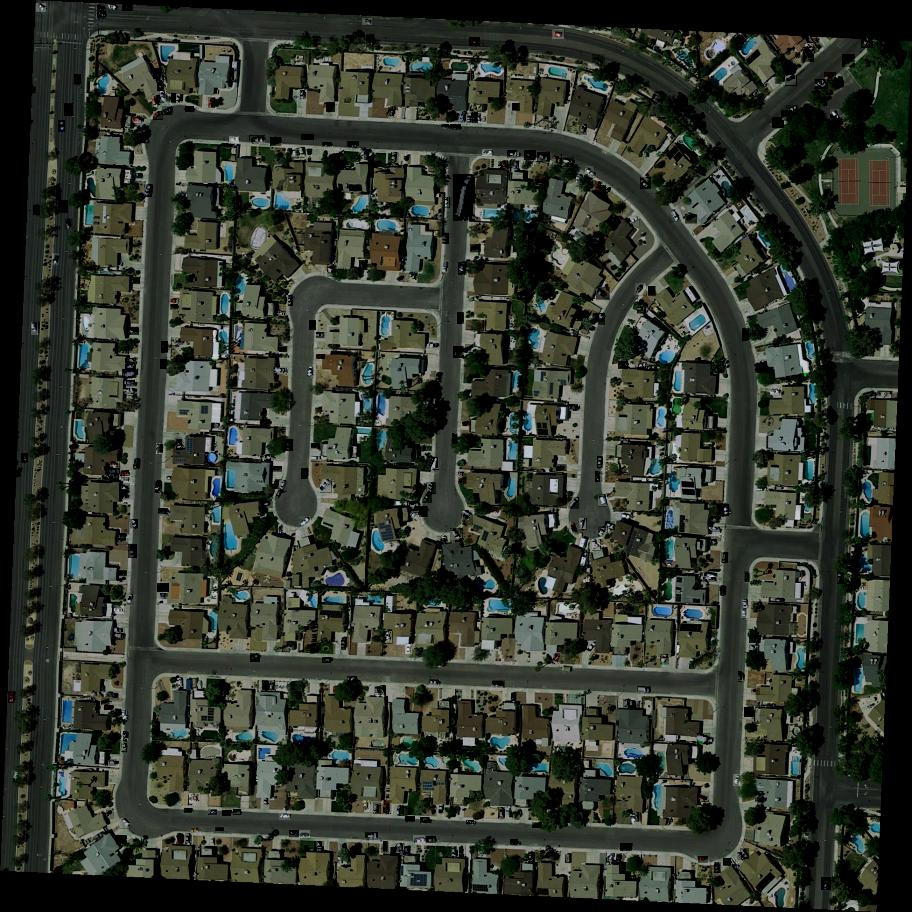large-vehicle: (453, 174, 476, 221), (697, 734, 712, 747), (122, 369, 136, 379), (637, 687, 651, 694), (299, 147, 307, 158), (722, 552, 728, 564), (442, 263, 448, 273), (623, 699, 629, 708), (703, 578, 714, 581), (630, 701, 634, 707), (442, 124, 447, 127)
small-vehicle: (843, 54, 858, 68), (450, 528, 464, 543), (591, 54, 605, 68), (597, 287, 611, 301), (669, 210, 682, 224), (321, 479, 333, 494), (803, 48, 815, 63), (635, 283, 647, 298), (105, 690, 121, 700), (299, 516, 312, 528), (861, 36, 873, 49), (157, 583, 170, 595), (568, 497, 580, 510), (821, 877, 832, 891), (453, 346, 464, 360), (128, 544, 138, 559), (772, 118, 784, 130), (585, 166, 597, 178), (388, 106, 399, 119), (60, 200, 71, 213), (327, 265, 338, 278), (119, 818, 130, 831), (144, 184, 154, 198), (831, 109, 841, 123), (458, 262, 468, 276), (36, 3, 48, 14), (426, 482, 437, 494), (685, 214, 697, 225), (805, 44, 816, 56), (640, 178, 652, 189), (462, 514, 474, 525), (270, 137, 283, 147), (786, 106, 799, 116), (815, 80, 828, 90), (785, 75, 798, 85), (538, 152, 551, 162), (458, 111, 468, 124), (366, 832, 379, 842), (697, 793, 710, 803), (592, 539, 602, 552), (127, 592, 136, 606), (384, 801, 393, 815), (419, 507, 430, 518), (602, 188, 613, 199), (597, 527, 608, 538), (326, 102, 336, 114), (251, 136, 266, 144), (64, 104, 74, 116), (119, 482, 131, 492), (422, 492, 432, 504), (469, 37, 481, 47), (781, 111, 793, 121), (824, 72, 836, 82), (628, 217, 640, 227), (563, 157, 575, 167), (551, 154, 563, 164), (525, 150, 537, 160), (598, 495, 608, 507), (588, 641, 598, 653), (113, 632, 126, 641), (553, 30, 566, 39), (127, 327, 140, 336), (414, 836, 427, 845), (122, 2, 133, 12), (359, 260, 369, 271), (755, 791, 765, 802), (157, 81, 167, 92), (117, 835, 128, 845), (113, 605, 125, 614), (280, 480, 289, 492), (470, 244, 482, 253), (579, 125, 588, 137), (741, 599, 750, 611), (740, 848, 749, 860), (153, 68, 162, 80), (373, 802, 382, 814), (299, 830, 311, 839), (279, 812, 291, 821), (396, 843, 405, 855), (604, 522, 616, 531), (554, 653, 563, 665), (570, 523, 579, 535), (66, 218, 74, 231), (32, 322, 40, 335), (408, 501, 421, 509), (251, 653, 261, 663), (162, 106, 173, 115), (110, 461, 121, 470), (117, 576, 128, 585), (508, 151, 519, 160), (744, 708, 755, 717), (262, 680, 271, 691), (462, 510, 473, 519), (619, 361, 630, 370), (661, 655, 670, 666), (208, 97, 216, 109), (285, 440, 293, 452), (743, 329, 751, 341), (472, 112, 480, 124), (275, 368, 287, 376), (749, 635, 761, 643), (176, 678, 184, 690), (636, 363, 648, 371), (598, 313, 606, 325), (621, 844, 633, 852), (58, 120, 65, 133), (385, 631, 392, 644), (459, 845, 466, 858), (492, 680, 505, 687), (154, 111, 164, 120), (130, 519, 139, 529), (737, 853, 747, 862), (314, 842, 324, 851), (96, 11, 107, 19), (132, 117, 143, 125), (275, 490, 283, 501), (600, 185, 608, 196), (482, 149, 493, 157), (130, 277, 141, 285), (268, 680, 276, 691), (457, 313, 465, 324), (442, 234, 450, 245), (391, 152, 398, 164), (52, 254, 59, 266), (432, 457, 439, 469), (720, 585, 727, 597), (734, 774, 741, 786), (262, 798, 269, 810), (8, 691, 15, 703), (529, 851, 536, 863), (723, 858, 732, 867), (648, 287, 657, 296), (159, 508, 169, 516), (21, 453, 29, 463), (595, 182, 603, 192), (309, 320, 317, 330), (426, 836, 436, 844), (290, 831, 300, 839), (106, 811, 116, 819), (426, 343, 439, 349), (161, 91, 168, 102), (229, 136, 240, 143), (362, 18, 373, 25), (109, 474, 120, 481), (278, 525, 285, 536), (302, 468, 309, 479), (193, 793, 200, 804), (178, 834, 185, 845), (436, 372, 443, 383), (596, 472, 603, 483), (499, 807, 506, 818), (615, 853, 622, 864), (155, 480, 161, 492), (468, 112, 474, 124), (709, 539, 718, 547), (364, 800, 370, 812), (459, 470, 468, 478), (646, 365, 658, 371), (34, 205, 41, 215), (74, 74, 81, 84), (119, 476, 129, 483), (751, 688, 761, 695), (101, 699, 111, 706), (380, 685, 387, 695), (556, 464, 566, 471), (533, 822, 543, 829), (348, 142, 359, 148), (143, 132, 149, 143), (109, 468, 120, 474), (125, 365, 136, 371), (577, 172, 583, 183), (513, 160, 519, 171), (744, 571, 750, 582), (411, 512, 420, 519), (277, 309, 286, 316), (292, 149, 299, 158), (279, 346, 288, 353), (505, 806, 512, 815), (260, 420, 270, 426), (117, 538, 127, 544), (177, 439, 183, 449), (126, 358, 136, 364), (114, 627, 124, 633), (838, 572, 843, 584), (406, 644, 412, 654), (91, 692, 101, 698), (598, 456, 603, 468), (580, 519, 586, 529), (439, 805, 445, 815), (610, 853, 616, 863), (97, 5, 105, 12), (711, 516, 719, 523), (741, 610, 748, 618), (109, 759, 117, 766), (133, 459, 138, 470), (119, 495, 130, 500), (124, 381, 135, 386), (271, 466, 282, 471), (288, 295, 293, 306), (770, 389, 779, 395), (152, 98, 158, 107), (157, 95, 163, 104), (263, 502, 272, 508), (118, 570, 127, 576), (322, 657, 331, 663), (412, 271, 418, 280), (749, 644, 758, 650), (715, 863, 721, 872), (397, 806, 403, 815), (404, 846, 410, 855), (12, 771, 18, 780), (462, 420, 471, 426), (698, 856, 707, 862), (124, 389, 134, 394), (478, 113, 483, 123), (162, 342, 167, 352), (186, 833, 191, 843), (383, 841, 388, 851), (347, 676, 357, 681), (302, 135, 314, 139), (265, 455, 273, 461), (316, 332, 324, 338), (171, 299, 179, 305), (223, 810, 231, 816), (459, 478, 467, 484), (171, 93, 176, 102), (185, 107, 194, 112), (300, 90, 305, 99), (323, 142, 332, 147), (311, 444, 320, 449), (161, 360, 166, 369), (409, 506, 418, 511), (637, 308, 646, 313), (341, 641, 346, 650), (391, 847, 396, 856), (104, 705, 113, 710), (208, 810, 217, 815), (452, 434, 457, 443), (450, 124, 461, 128), (725, 505, 729, 516), (636, 812, 640, 823), (109, 4, 116, 10), (317, 354, 324, 360), (134, 173, 142, 178), (312, 457, 322, 461), (429, 680, 437, 685), (503, 161, 508, 169), (308, 367, 312, 377), (123, 731, 127, 741), (405, 817, 415, 821), (374, 687, 379, 695), (570, 405, 578, 410), (453, 847, 457, 857), (177, 94, 181, 103), (513, 104, 519, 110), (123, 711, 127, 720), (215, 828, 224, 832), (739, 672, 743, 681), (121, 490, 128, 495), (192, 828, 199, 833), (122, 744, 127, 751), (511, 840, 518, 845), (121, 471, 129, 475), (421, 818, 429, 822), (184, 809, 192, 813), (709, 528, 719, 531), (157, 444, 160, 454), (171, 305, 178, 309), (467, 820, 474, 824), (233, 810, 240, 814), (190, 794, 193, 803), (446, 198, 449, 207), (499, 162, 502, 170), (119, 534, 126, 537), (161, 594, 168, 596)
